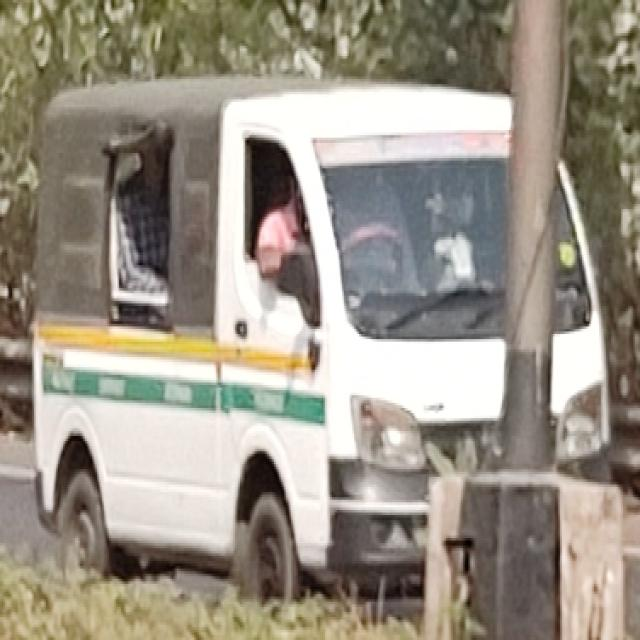van: (32, 71, 613, 602)
